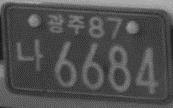4: (134, 47, 159, 97)
6: (80, 42, 105, 92), (53, 41, 77, 88)
7: (105, 15, 123, 40)
8: (107, 44, 132, 93), (88, 16, 106, 39)
광주_O: (46, 11, 85, 36)
나: (15, 38, 43, 73)
